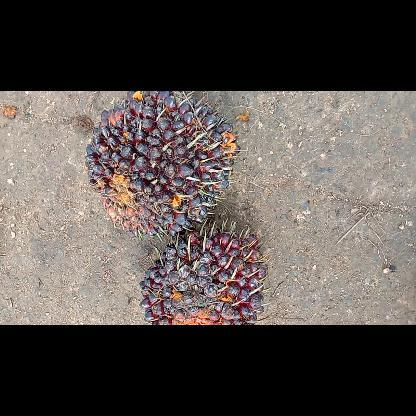Kurang masak: (82, 90, 242, 238), (136, 224, 266, 324)
